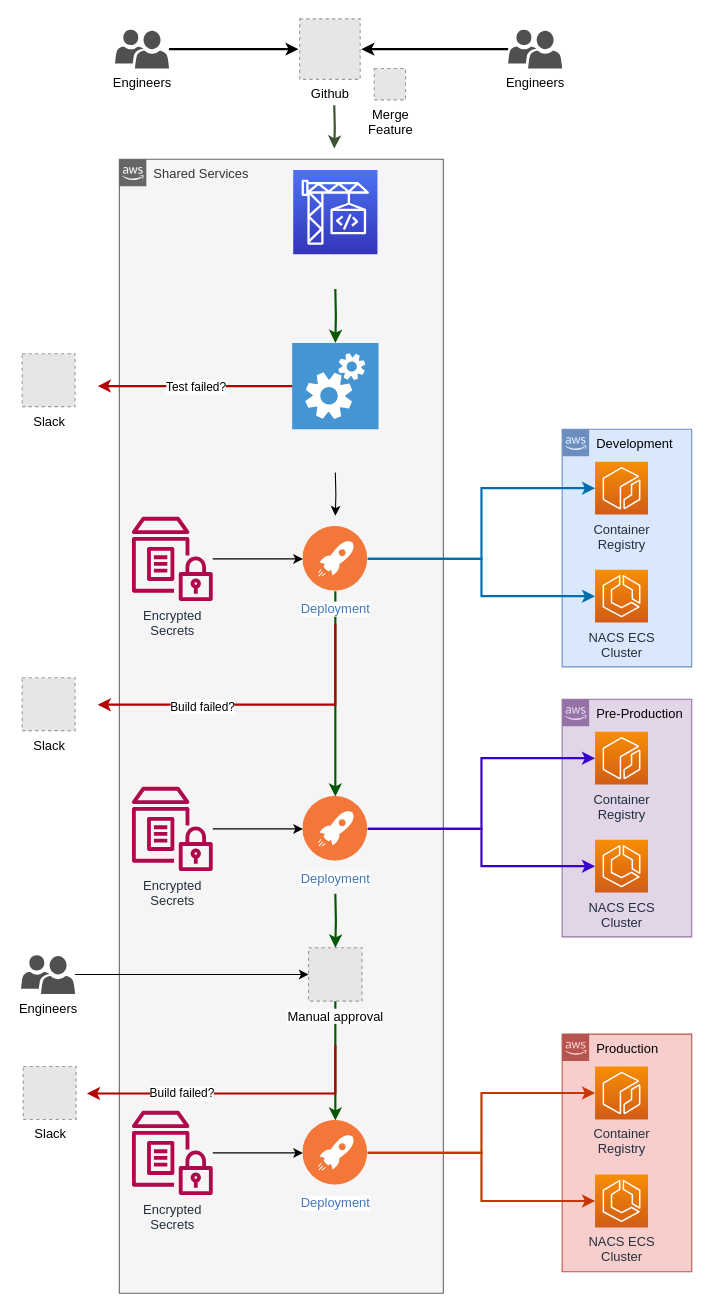
Some shapes in this 711 by 1312 pixel diagram are drawn without their labels. Grey dashed boxes stand in for pictures. The shapes that lost their labels are listed below. From the top down, each one's centre as x and y in pixels, then its label:
At pixel 334 211: "Build Pipeline".
At pixel 335 385: "Automated testing".
